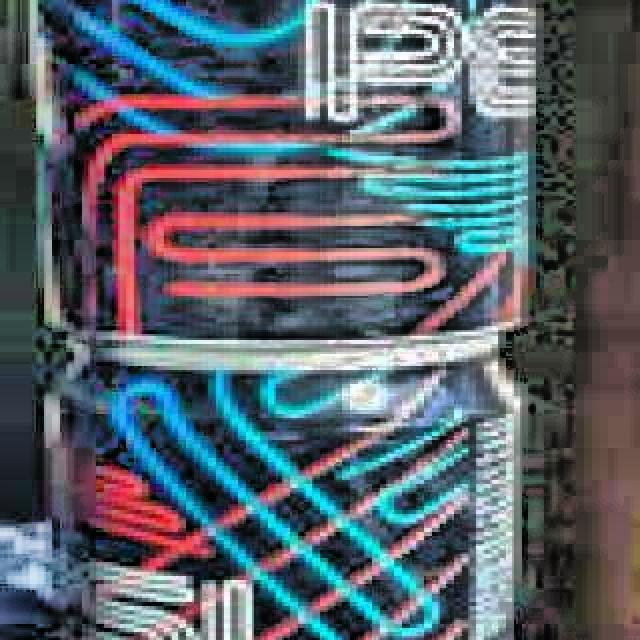metal: (14, 0, 542, 338), (40, 338, 538, 640)
